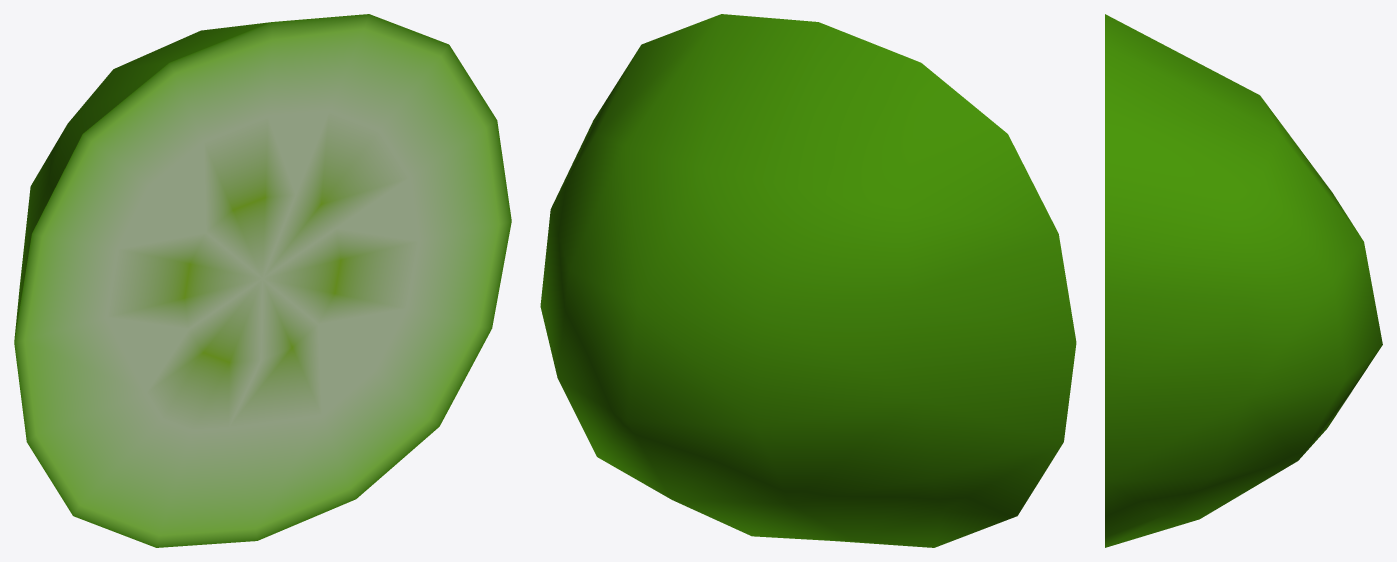
The model's file is Cucumber_Slice_21.fbx.
The picture shows the model from 3 angles, left to right: view 1: azimuth 30°, elevation 25°; view 2: azimuth 150°, elevation 25°; view 3: azimuth 270°, elevation 25°; orthographic projection. The views are drawn at different scales.
Visible parts, largest first — view 1: Cucumber_Slice_21; view 2: Cucumber_Slice_21; view 3: Cucumber_Slice_21.
Boxes of the visible parts, <box> form: Cucumber_Slice_21: <box>14,14,511,547</box>; Cucumber_Slice_21: <box>540,14,1076,547</box>; Cucumber_Slice_21: <box>1105,14,1382,547</box>.
Bounding box in the file's own units: 3.47 × 3.43 × 1.8.
